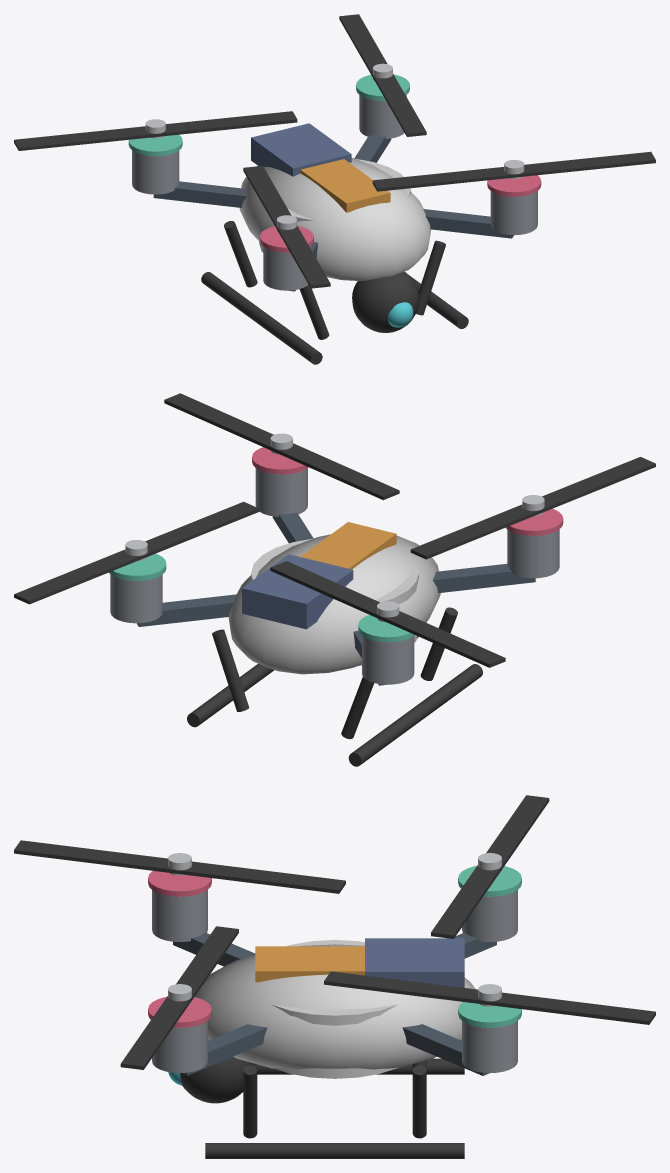
Rendered from drone_quad.glb.
The picture shows the model from 3 angles, top to bottom: view 1: azimuth 30°, elevation 25°; view 2: azimuth 150°, elevation 25°; view 3: azimuth 270°, elevation 25°; orthographic projection. The views are drawn at different scales.
Bounding box in the file's own units: 0.6441 × 0.213 × 0.6441.
